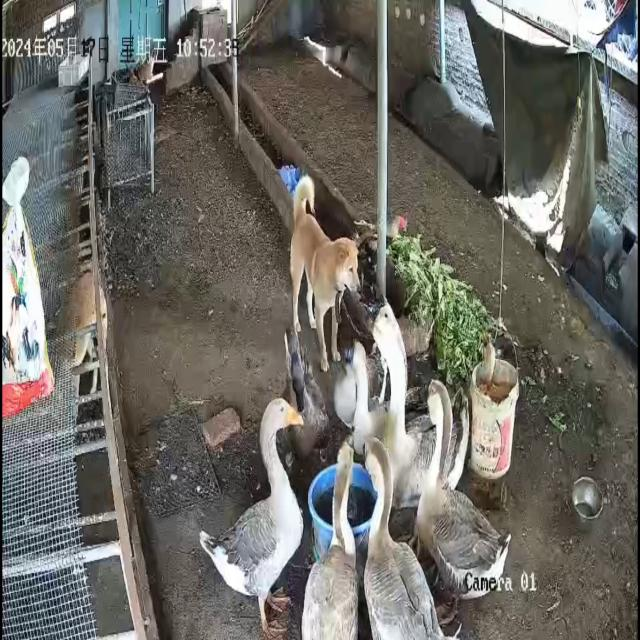dog: (290, 175, 362, 374), (73, 266, 108, 420)
